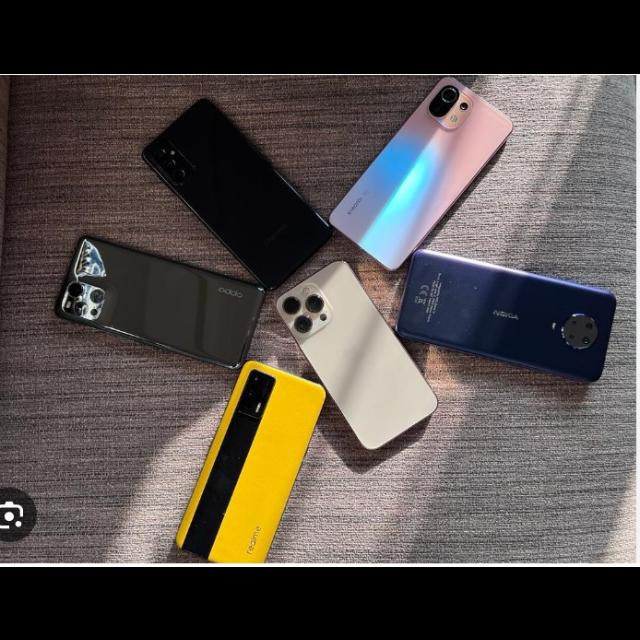Smartphone: (141, 98, 336, 288), (328, 79, 513, 271), (273, 260, 438, 450), (174, 361, 326, 564), (397, 249, 619, 383), (54, 236, 265, 368)
